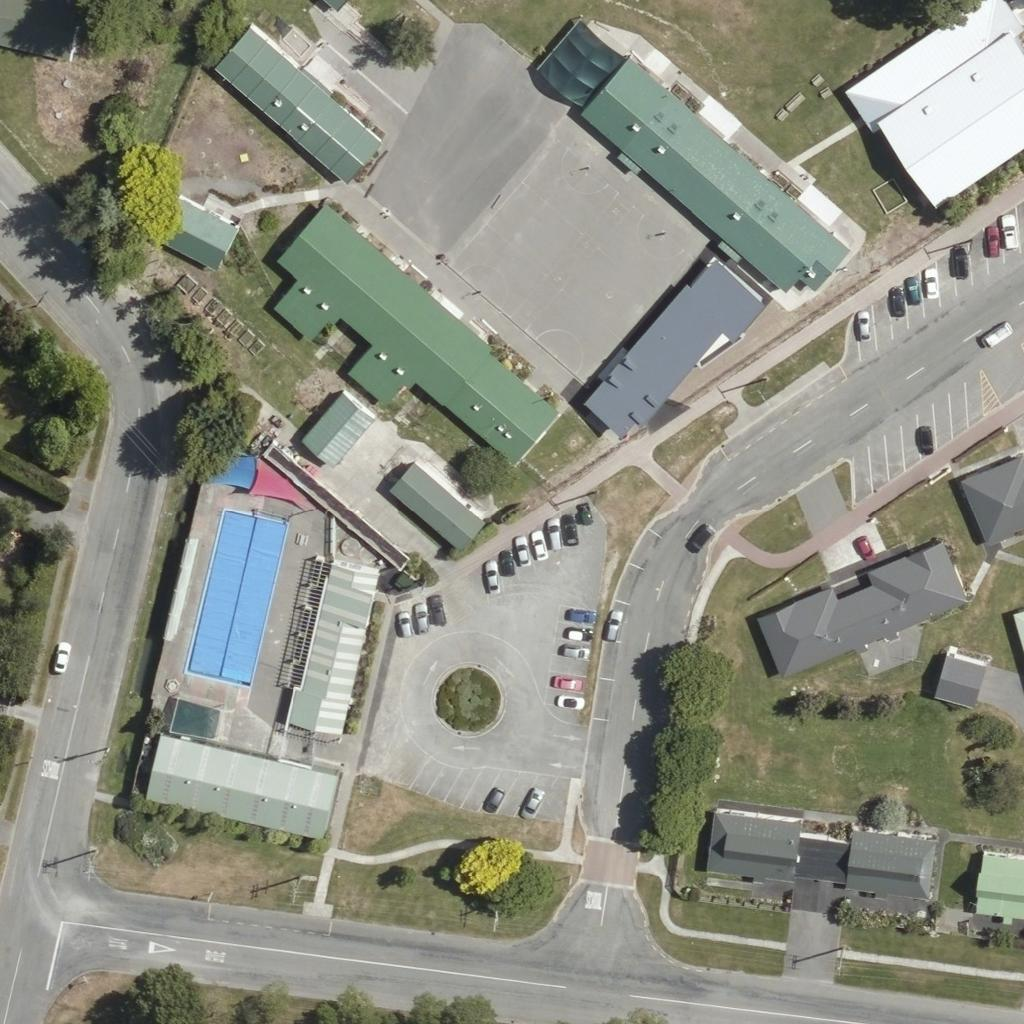car: (973, 226, 1007, 260), (943, 245, 977, 279), (914, 268, 948, 302), (895, 275, 929, 309), (880, 284, 914, 318), (845, 311, 879, 345), (982, 318, 1016, 352), (909, 423, 943, 457), (568, 498, 602, 532), (553, 514, 587, 548), (535, 518, 569, 552), (681, 520, 715, 554), (520, 530, 554, 564), (847, 531, 881, 565), (505, 534, 539, 568), (489, 547, 523, 581), (473, 560, 507, 594), (421, 595, 455, 629), (562, 599, 596, 633), (404, 603, 438, 637), (387, 610, 421, 644), (594, 611, 628, 645), (561, 617, 595, 651), (557, 634, 591, 668), (44, 640, 78, 674), (549, 666, 583, 700), (555, 686, 589, 720), (477, 781, 511, 815), (514, 786, 548, 820), (992, 218, 1024, 252)
